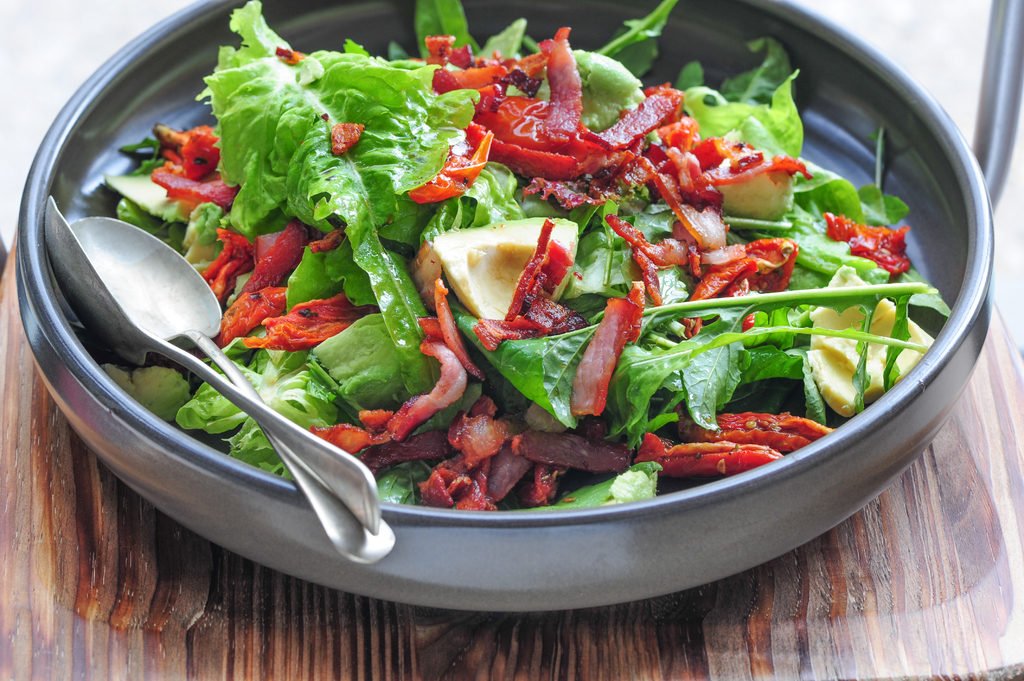salad: (92, 0, 955, 518)
